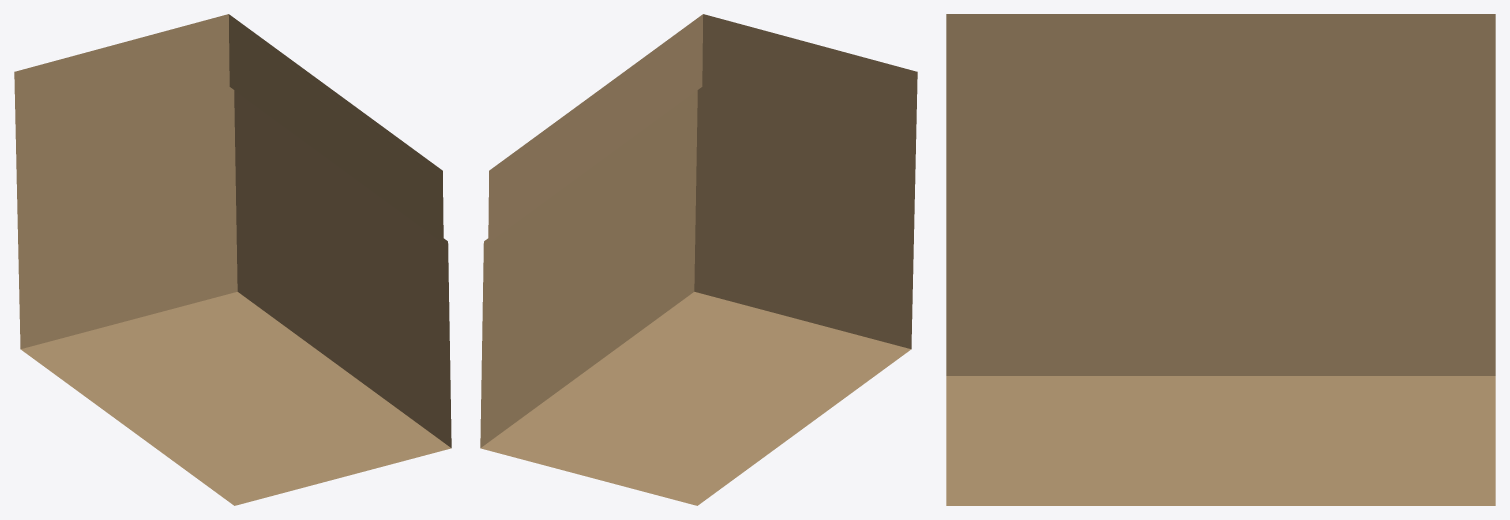
3 renders of one model, left to right at view 1: azimuth 30°, elevation 25°; view 2: azimuth 150°, elevation 25°; view 3: azimuth 270°, elevation 25°, orthographic. The views are drawn at different scales.
Visible parts, largest first — view 1: 0_0_1_1_3_2_1_3_3; view 2: 0_0_1_1_3_2_1_3_3; view 3: 0_0_1_1_3_2_1_3_3.
Part boxes in pixels (box(x1,y1,x2,y2)): 0_0_1_1_3_2_1_3_3: box(14, 14, 451, 505); 0_0_1_1_3_2_1_3_3: box(480, 14, 917, 505); 0_0_1_1_3_2_1_3_3: box(946, 14, 1495, 505).
Bounding box in the file's own units: 12.65 × 15.4 × 21.
